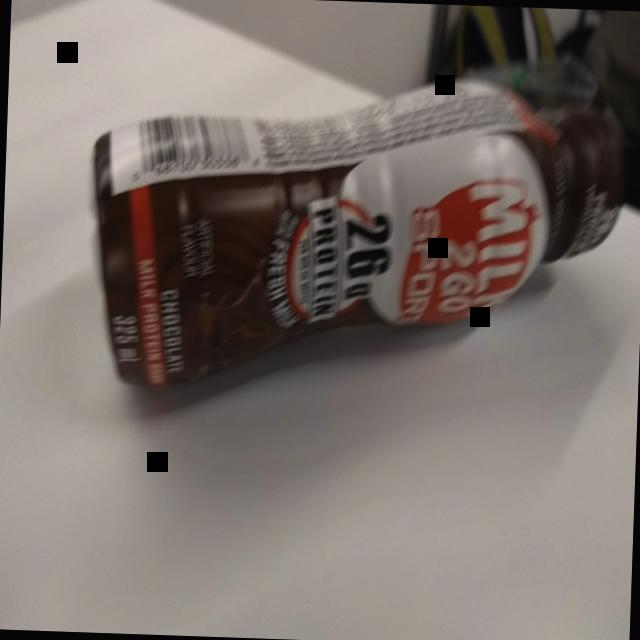chocolate_drink: (75, 74, 634, 413)
